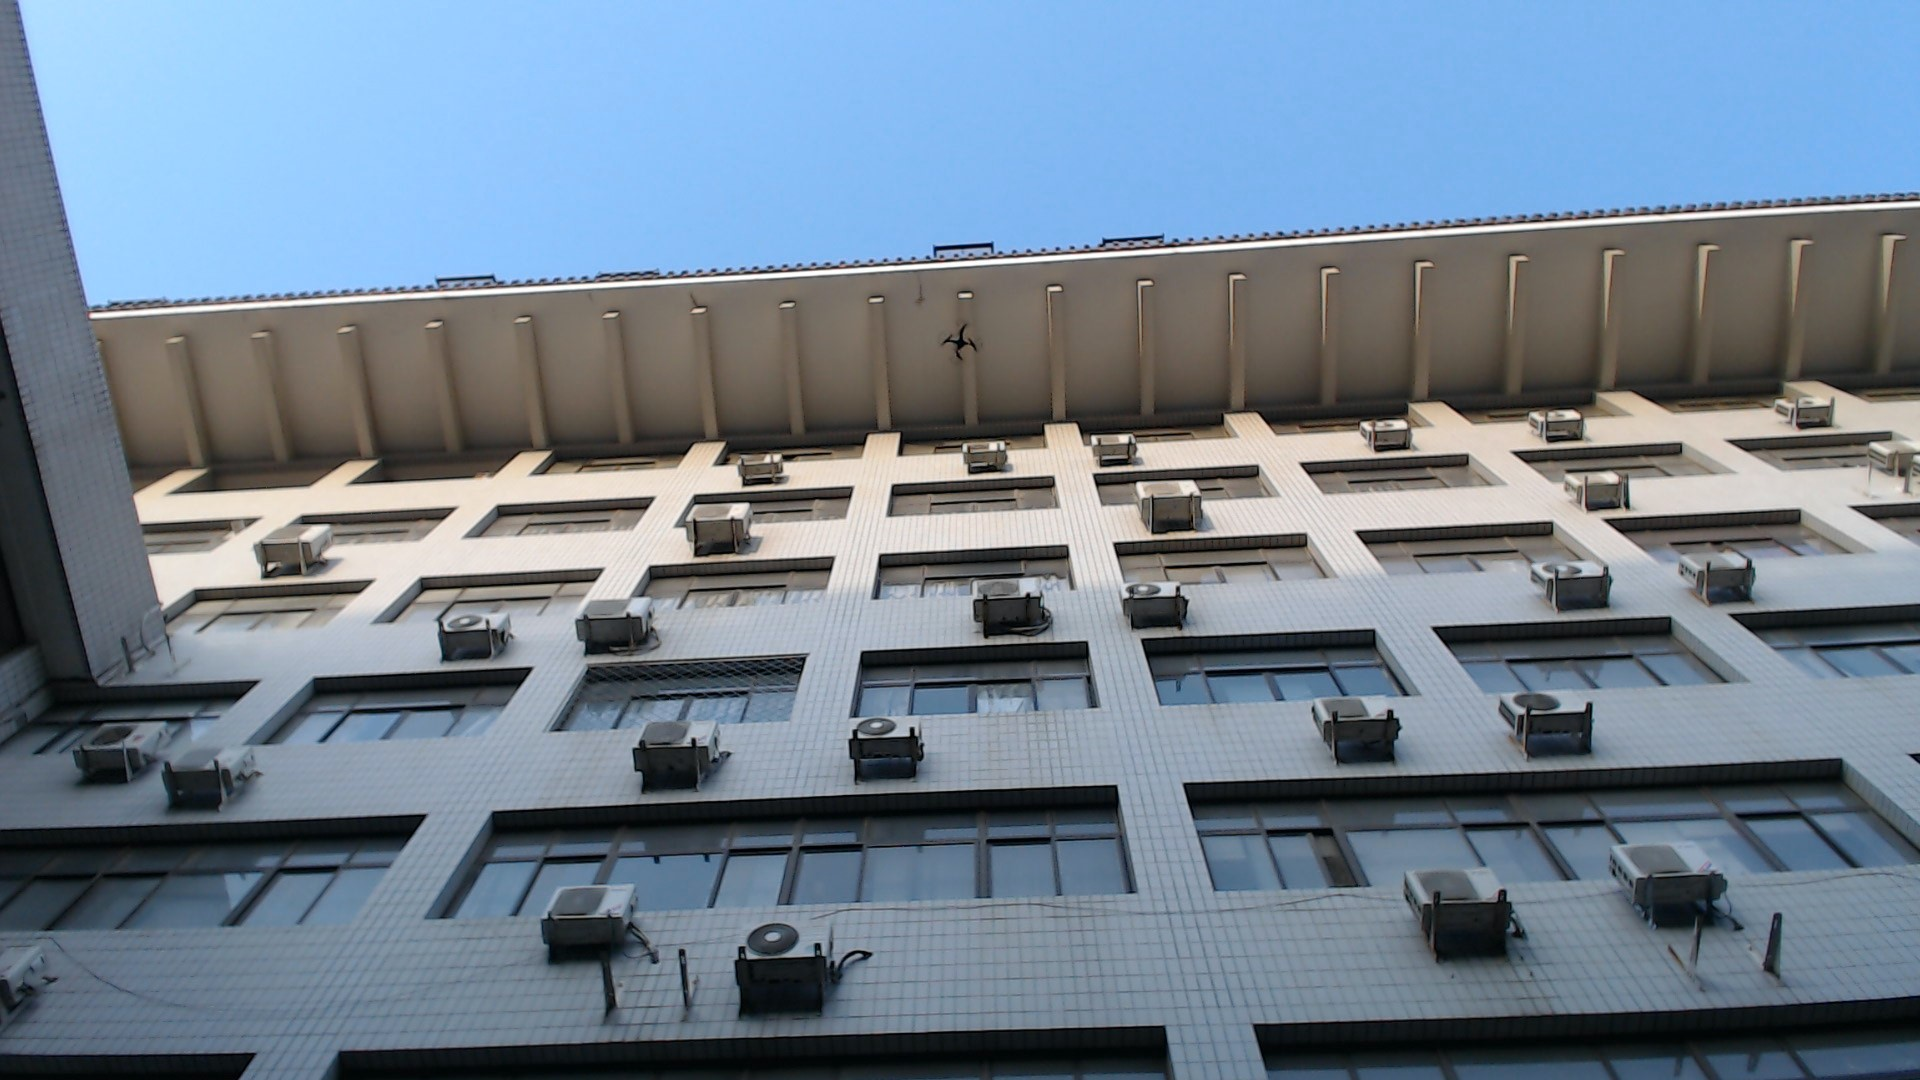drone: (928, 316, 996, 368)
